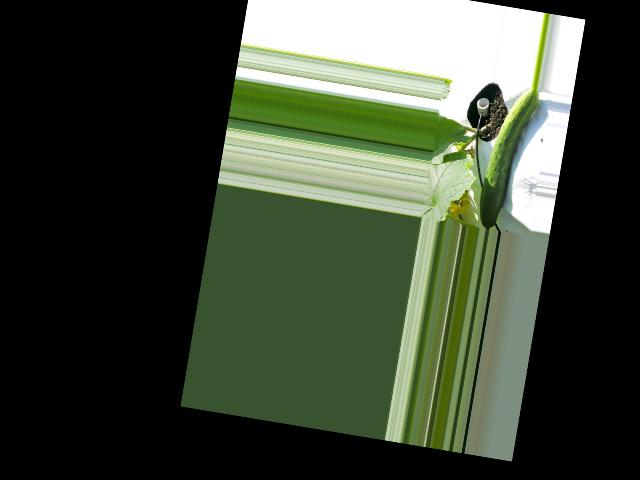cucumber: (475, 81, 540, 234)
